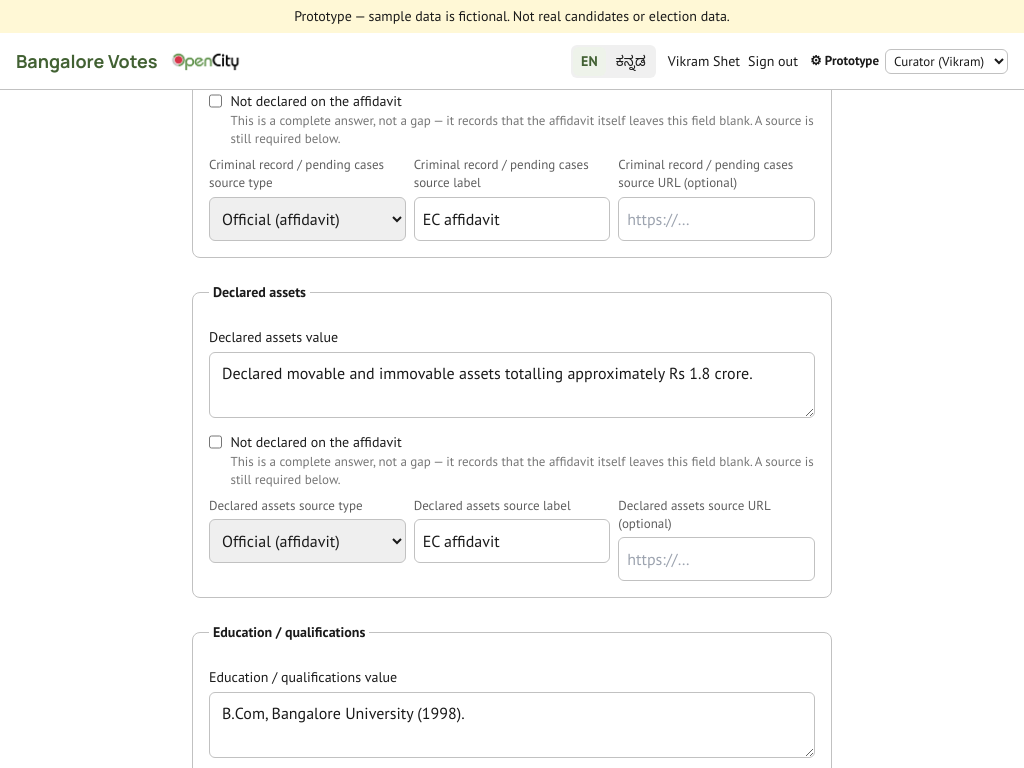
Test: curator edits a sourced field with a new value and source — publishes immediately and audits
(page scrolled)
Replace the text in the text box labelled "Declared assets value" with "Updated declared assets figure following a fresh filing." at (512, 385), box 209,352 -> 815,418
(page scrolled)
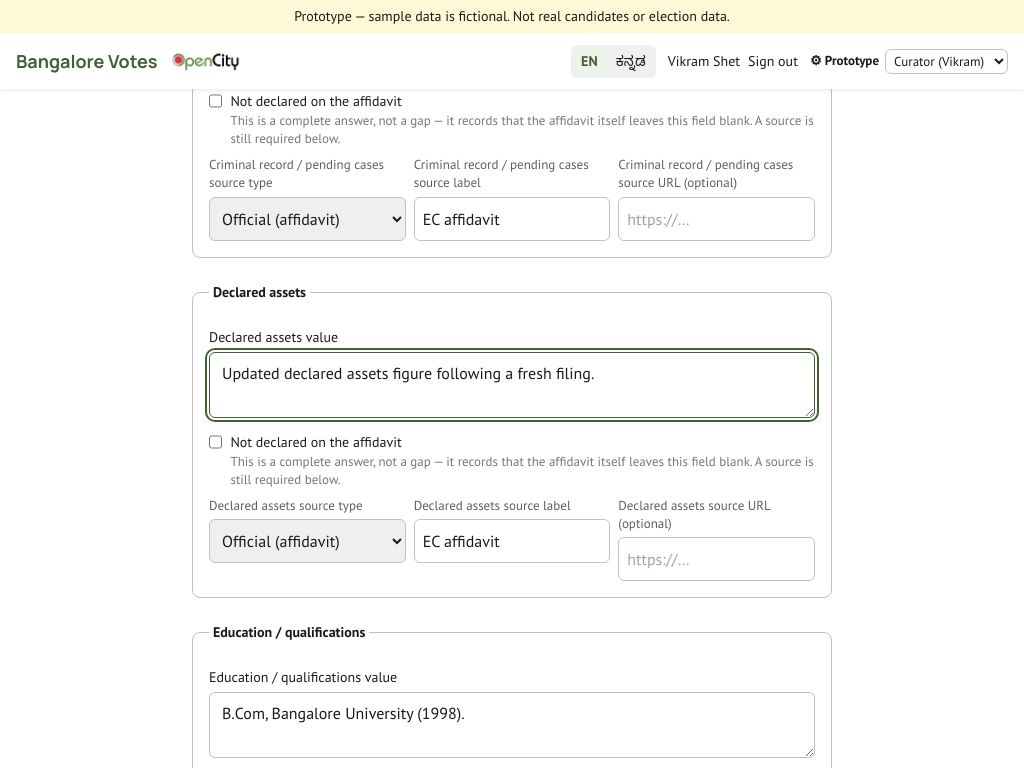
Replace the text in the field labelled "Declared assets source label" with "Fresh EC affidavit filing" at (512, 541), box 414,519 -> 610,563
(page scrolled)
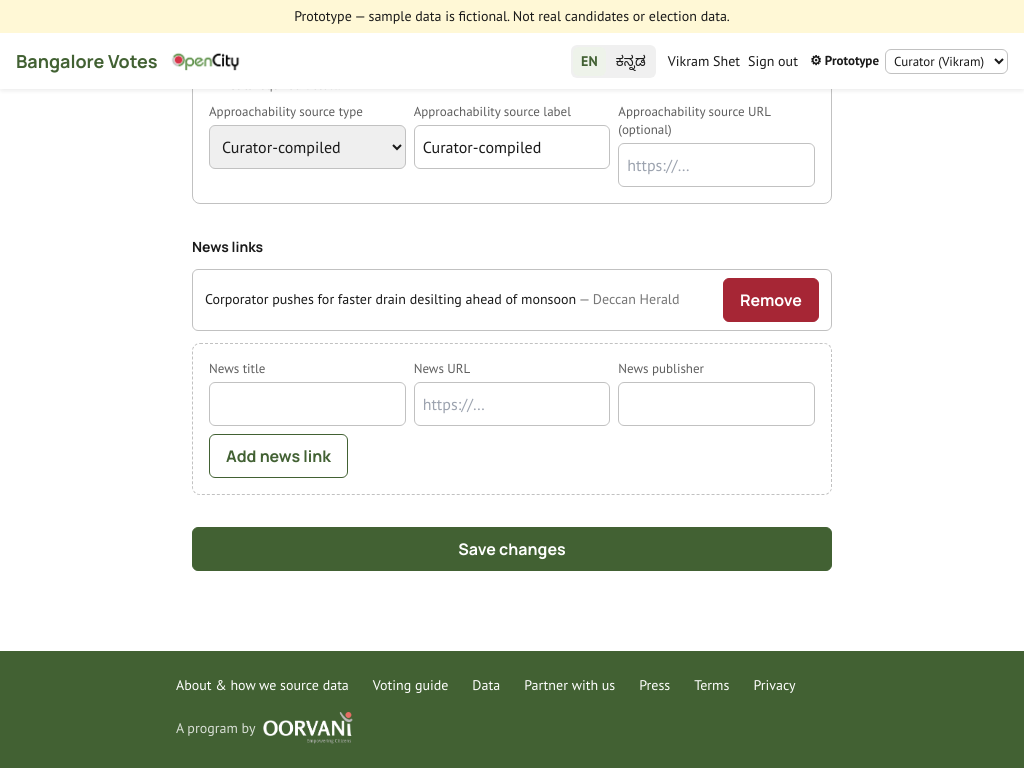
Click the button "Save changes" at (512, 549), box 192,527 -> 832,571
(page scrolled)
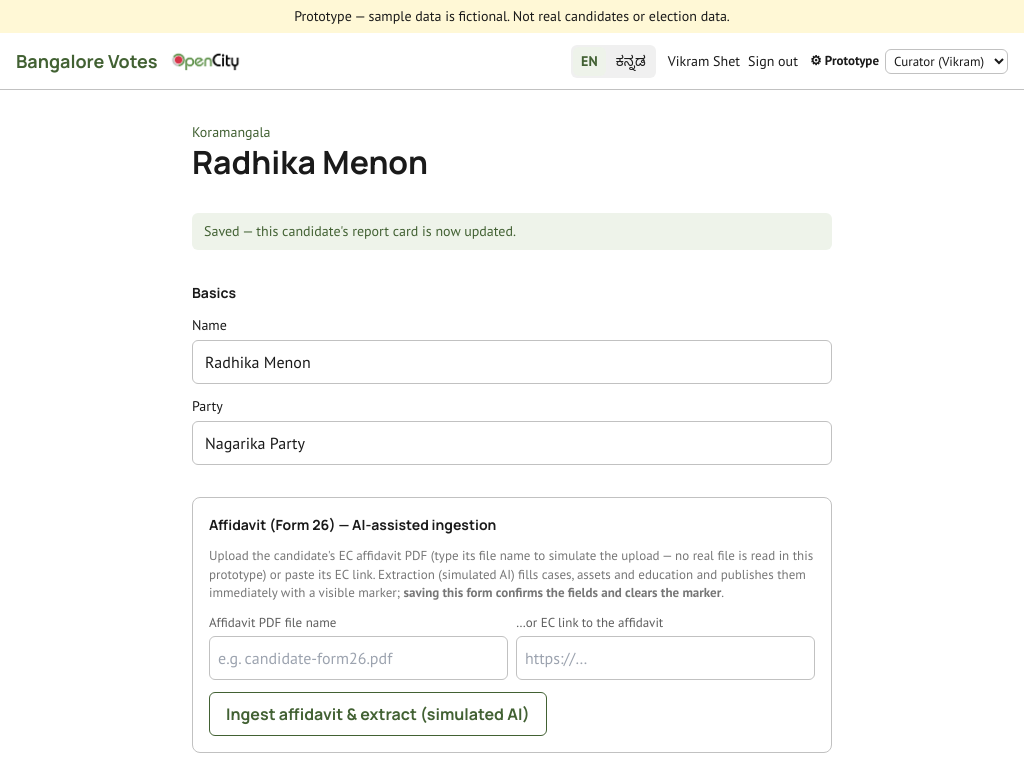
Now the text "Saved — this candidate's report card is now updated." is shown, box 192,213 -> 832,250
